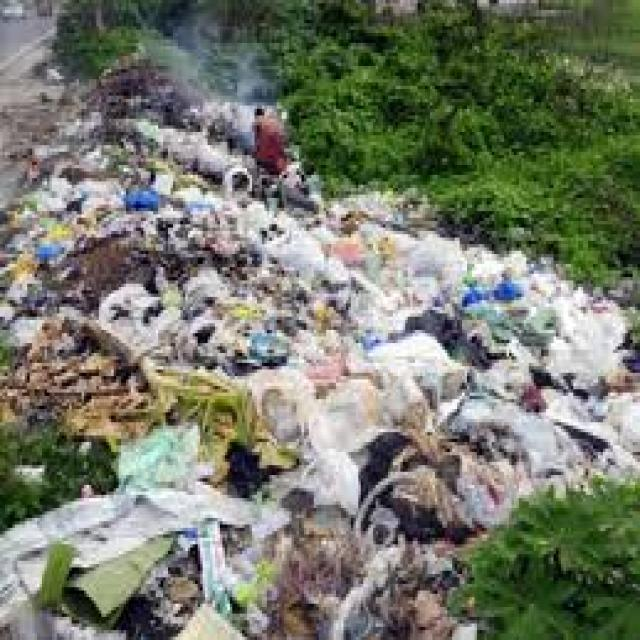heap: (70, 182, 609, 552)
